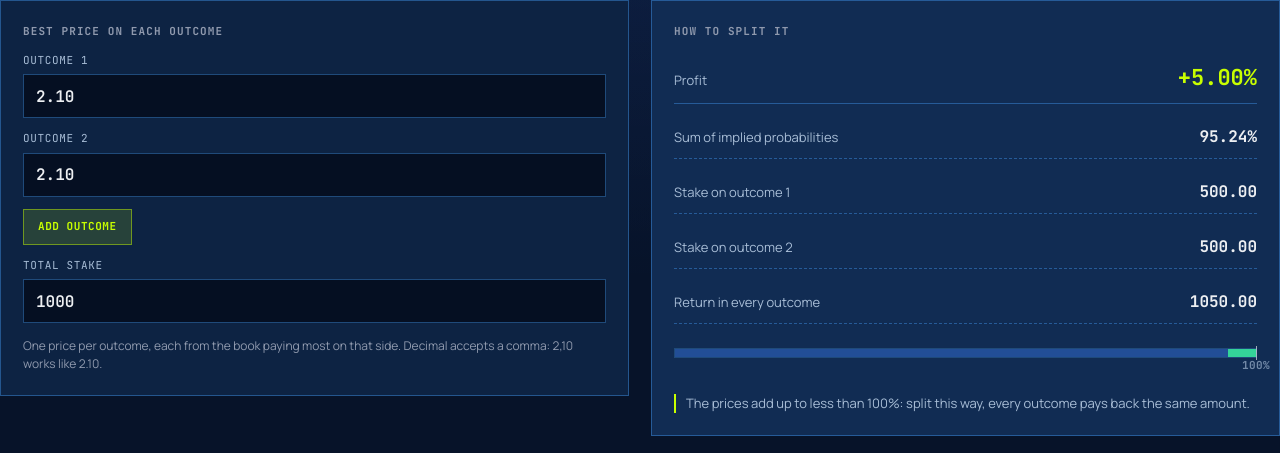
Test: arbitrage calculator › le quote asimmetriche pareggiano il ritorno sbilanciando gli stake
The width and height of the screenshot is (1280, 453).
Type "3.00" into the field labelled "Outcome 1".
click(314, 96); type("3.00")  # box x1=24 y1=75 x2=605 y2=117
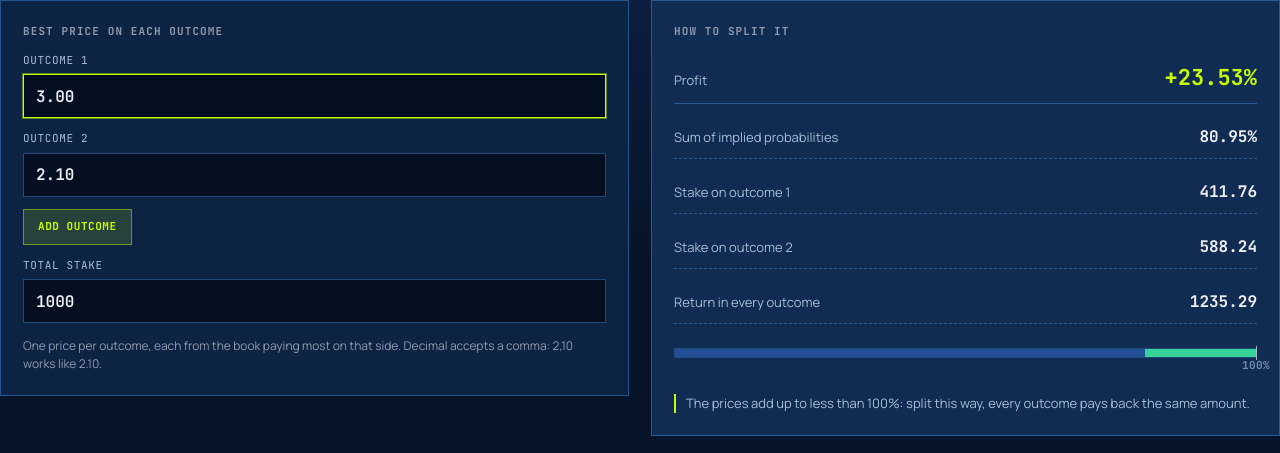
Type "1.60" into the field labelled "Outcome 2".
click(314, 174); type("1.60")  # box x1=24 y1=154 x2=605 y2=196
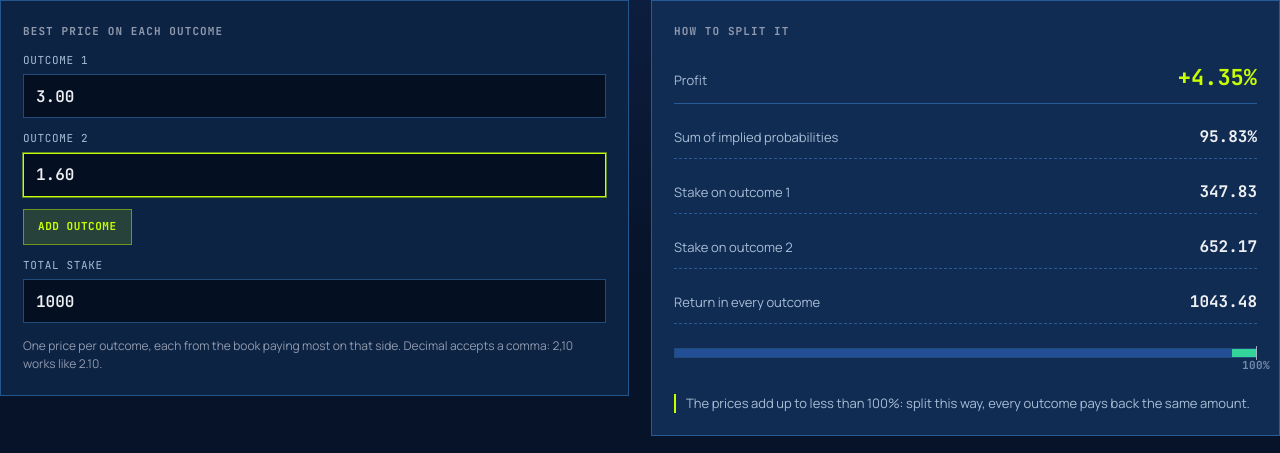
Now the text with test id "out-arb-stake-1" reads "347.83", box x1=1199 y1=180 x2=1257 y2=202
Now the text with test id "out-arb-stake-2" reads "652.17", box x1=1199 y1=236 x2=1257 y2=256
Now the text with test id "out-arb-return" reads "1043.48", box x1=1190 y1=290 x2=1257 y2=312
